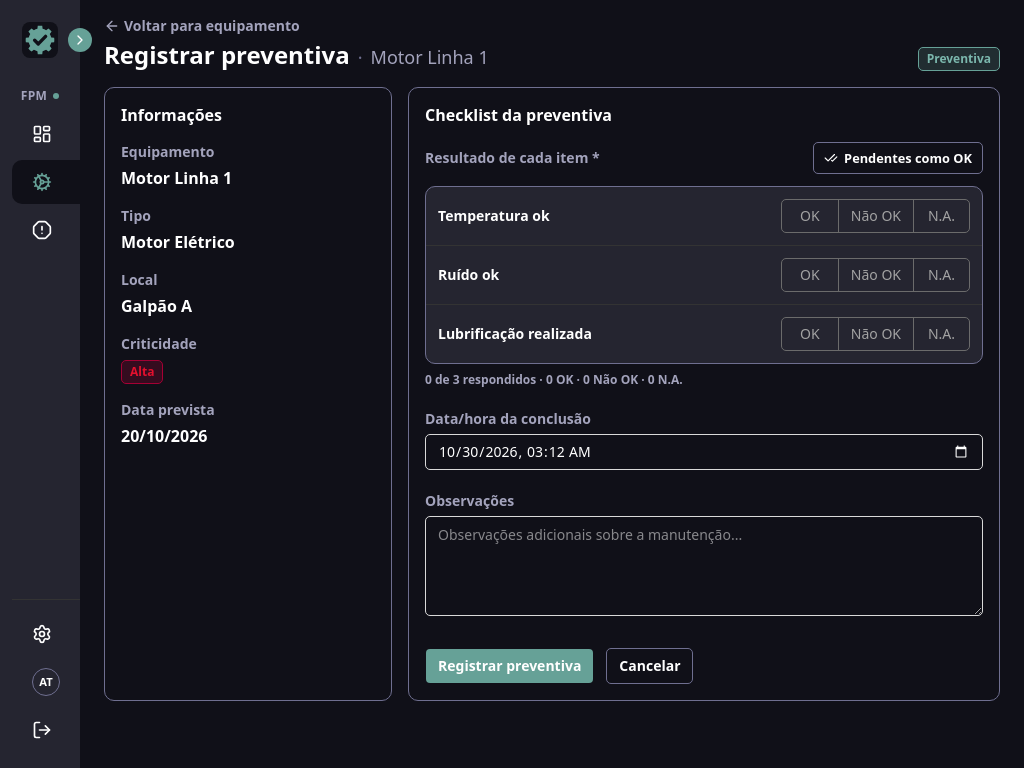
Test case: Registro de manutenção › preventiva › não envia com itens sem resposta
Click the radio button labelled "OK" in the row of "Temperatura ok". click: {"x": 810, "y": 216}
box: 782,200 -> 838,232
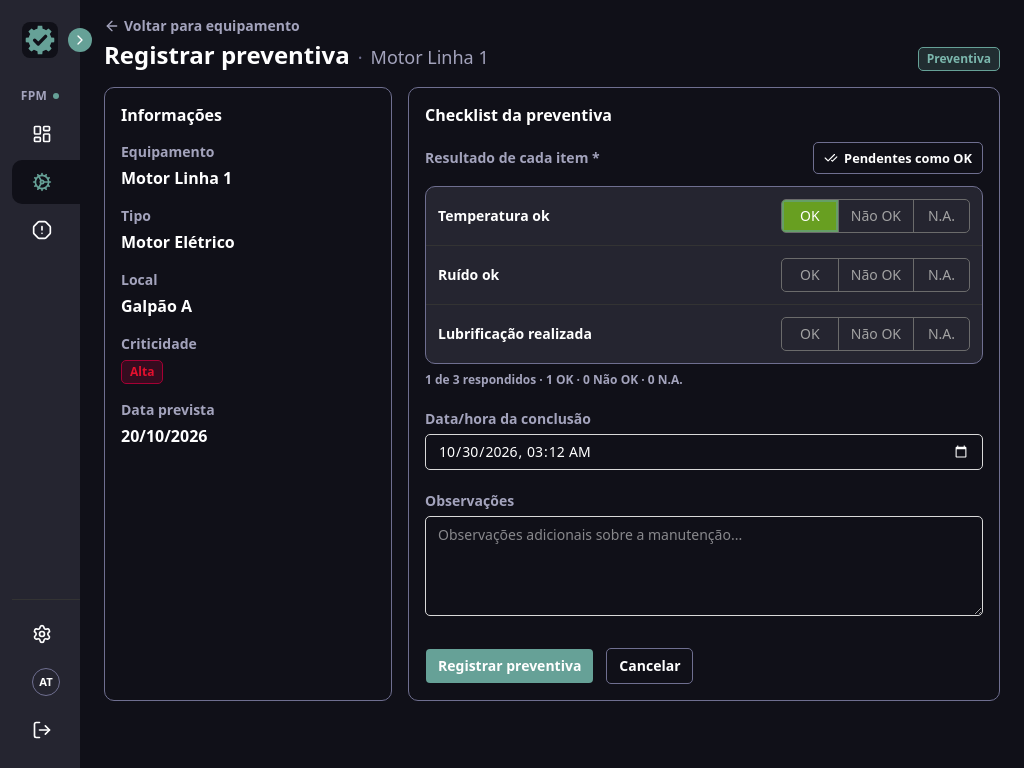
Click the button "Registrar preventiva". click: {"x": 510, "y": 666}
box: 425,648 -> 594,684
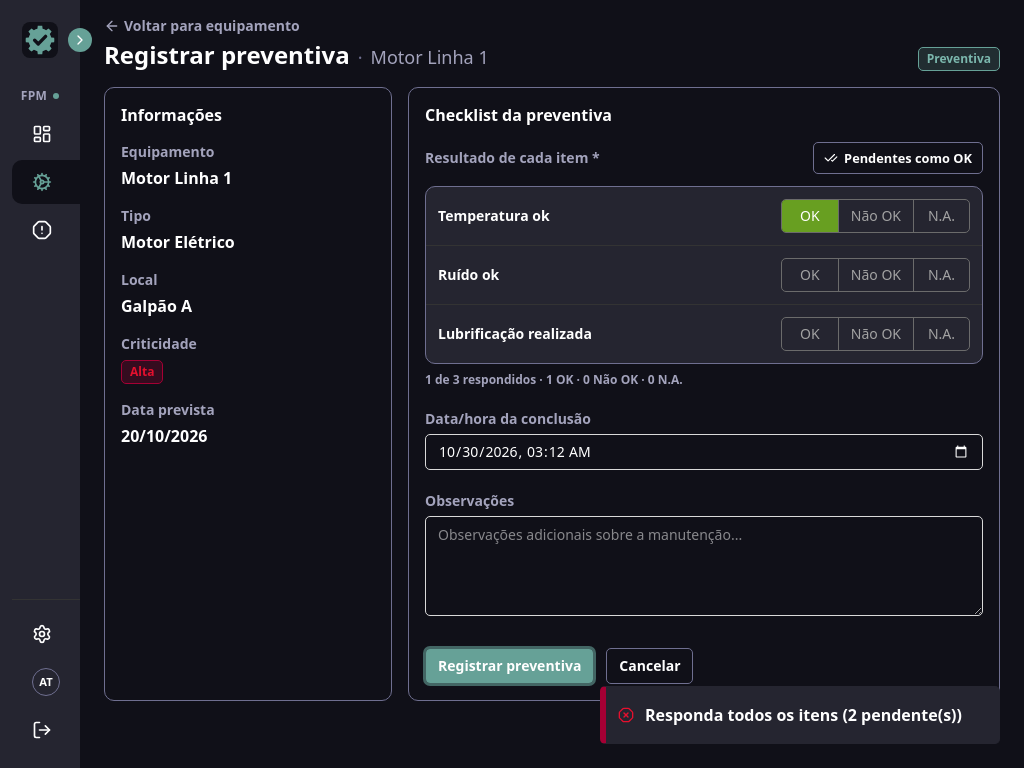
Check: the text "Responda todos os itens (2 pendente(s))" is shown, box 645,703 -> 962,727
